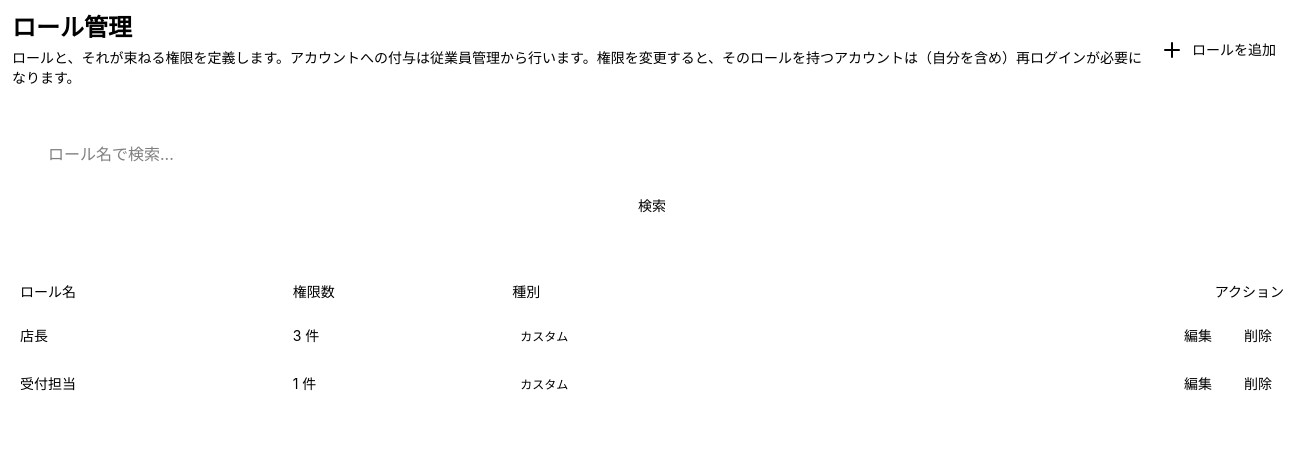
Scenario: ロール一覧ページ › 検索は再取得せず取得済みの一覧をロール名で絞り込むこと
Expected: the text "店長" is shown, [12, 312, 285, 360]
Type "受付" into the field named "ロールを検索". click: (652, 154)
box: [36, 136, 1268, 172]
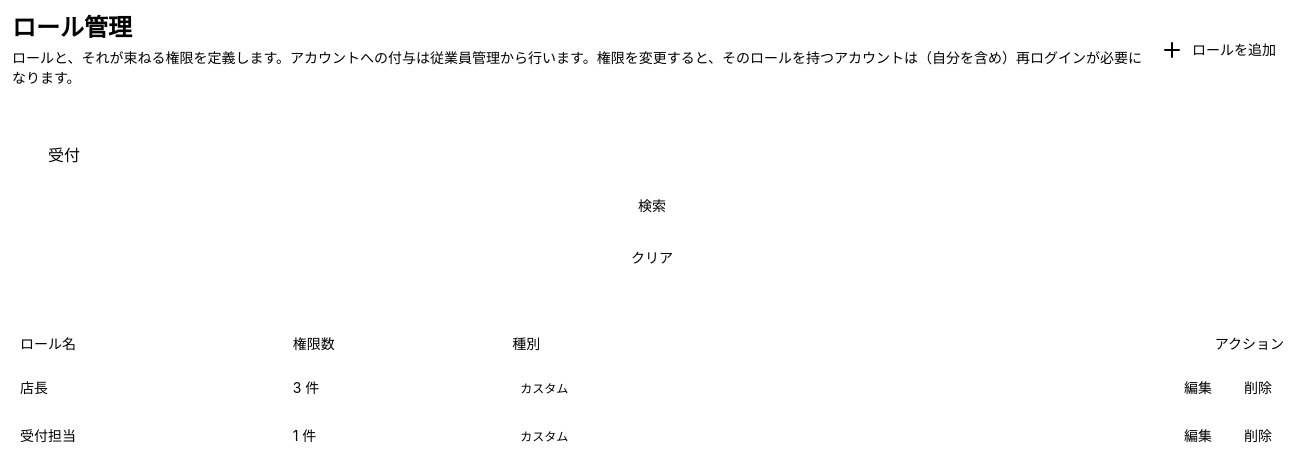
Click the button "検索". click: click(652, 206)
box: [36, 188, 1268, 224]
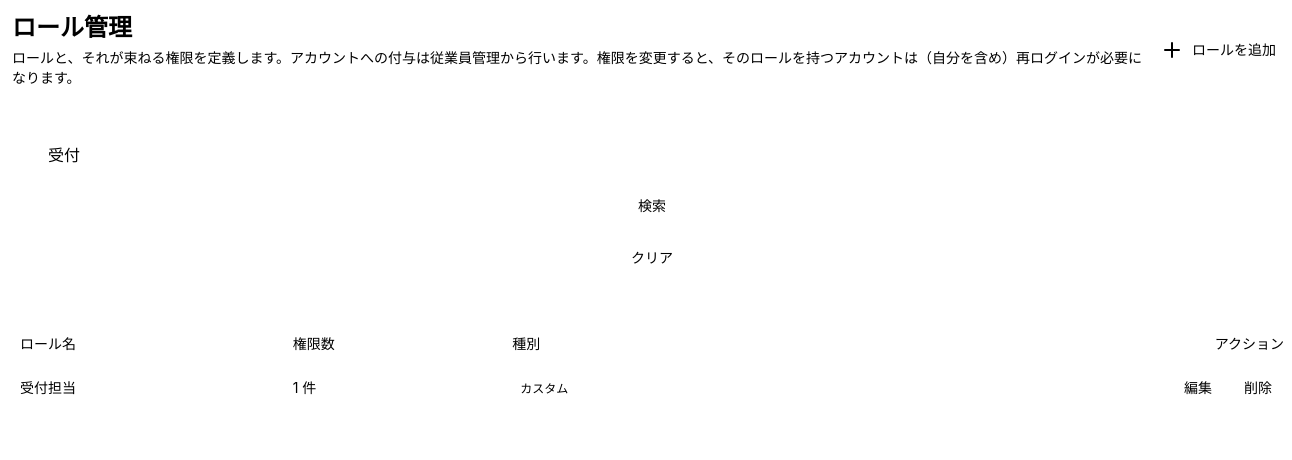
Expected: the text "受付担当" is shown, [12, 364, 285, 412]
Now the text "店長" is gone
